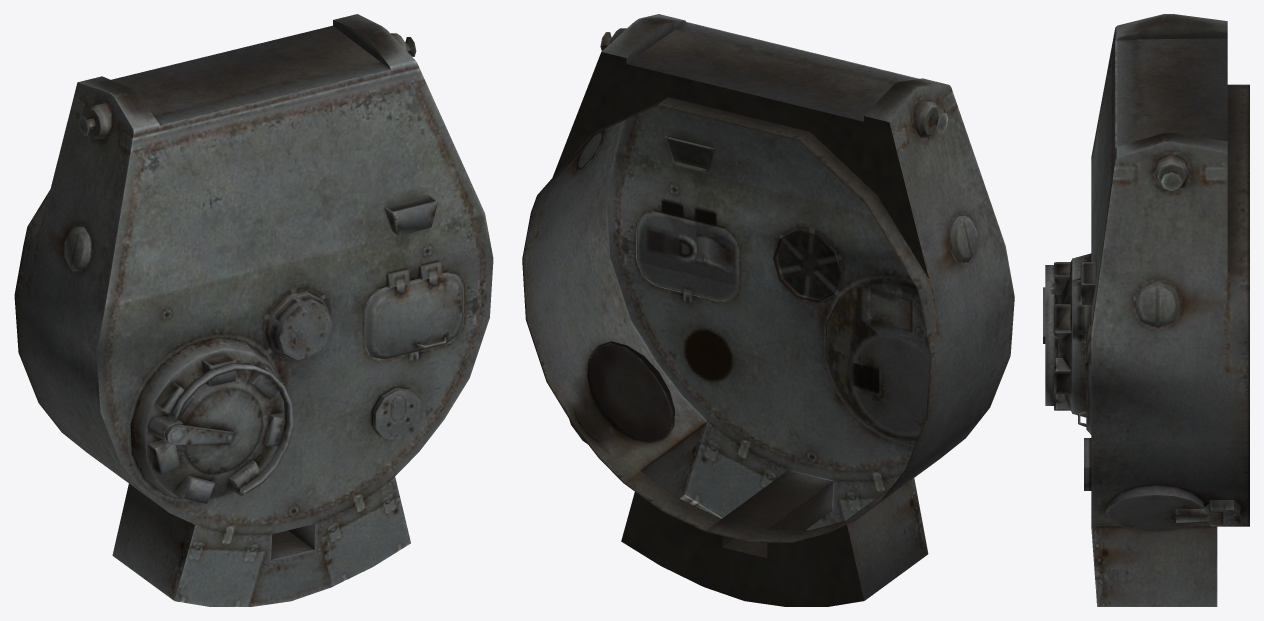
Rendered from Turret.obj.
3 views of the same model, side by side, from view 1: azimuth 30°, elevation 25°; view 2: azimuth 150°, elevation 25°; view 3: azimuth 270°, elevation 25° (orthographic). The views are drawn at different scales.
Parts seen in each view (by area): view 1: 3D_Object_1; view 2: 3D_Object_1; view 3: 3D_Object_1.
Boxes of the visible parts, box(x1,y1,x2,y2) form: 3D_Object_1: box(14, 14, 493, 606); 3D_Object_1: box(522, 14, 1014, 606); 3D_Object_1: box(1043, 14, 1249, 606).
Size of the model in its own units: 2.34 by 2.89 by 1.09.
Materials: 1 (1 with a texture image).
